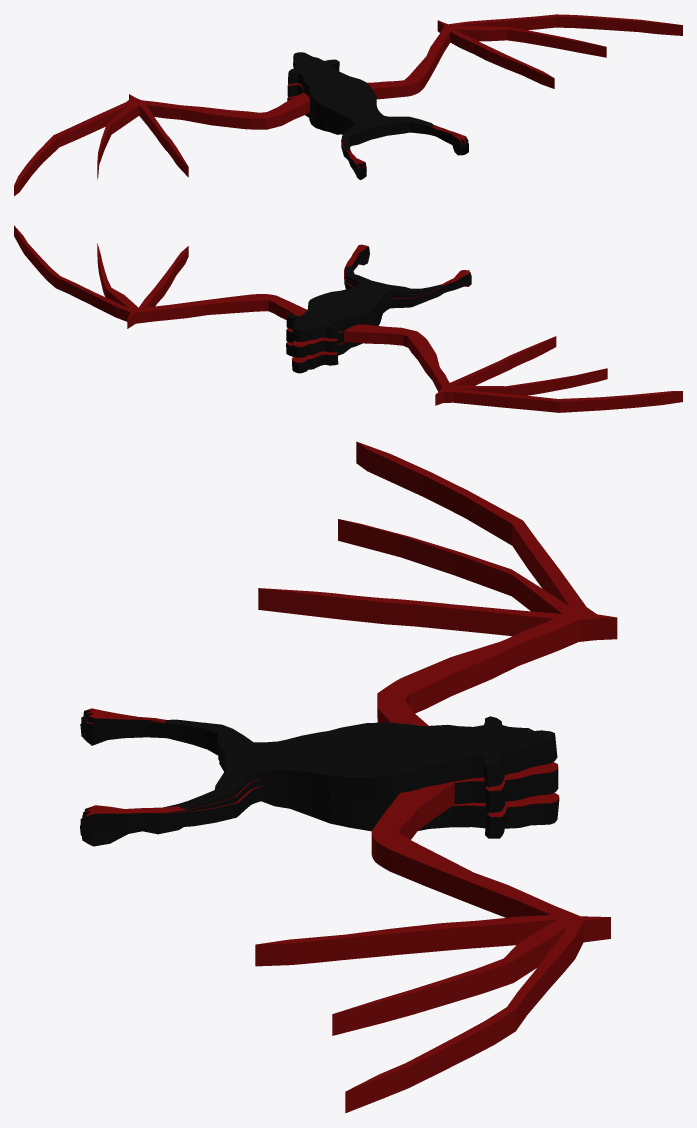
The model's file is Murcielago.FBX.
The picture shows the model from 3 angles, top to bottom: view 1: azimuth 30°, elevation 25°; view 2: azimuth 150°, elevation 25°; view 3: azimuth 270°, elevation 25°; orthographic projection. The views are drawn at different scales.
Visible parts, largest first — view 1: Brazo derecho, Brazo izquierdo, Cuerpo 2, Cuerpo 3, Cuerpo; view 2: Brazo izquierdo, Brazo derecho, Cuerpo 2, Cuerpo 3, Cuerpo; view 3: Brazo derecho, Brazo izquierdo, Cuerpo 2, Cuerpo 3, Cuerpo.
Boxes of the visible parts, bbox=[...] form: Brazo derecho: bbox=[367, 14, 682, 99]; Brazo izquierdo: bbox=[14, 92, 309, 196]; Cuerpo 2: bbox=[288, 52, 468, 179]; Cuerpo 3: bbox=[287, 95, 468, 170]; Cuerpo: bbox=[287, 83, 468, 177]; Brazo izquierdo: bbox=[344, 324, 682, 412]; Brazo derecho: bbox=[14, 225, 306, 328]; Cuerpo 2: bbox=[286, 252, 471, 341]; Cuerpo 3: bbox=[286, 244, 471, 373]; Cuerpo: bbox=[286, 249, 471, 357]; Brazo derecho: bbox=[255, 782, 610, 1113]; Brazo izquierdo: bbox=[258, 441, 617, 725]; Cuerpo 2: bbox=[80, 716, 557, 846]; Cuerpo 3: bbox=[82, 708, 559, 838]; Cuerpo: bbox=[80, 716, 558, 840].
Size of the model in its own units: 128 by 7.67 by 44.64.
